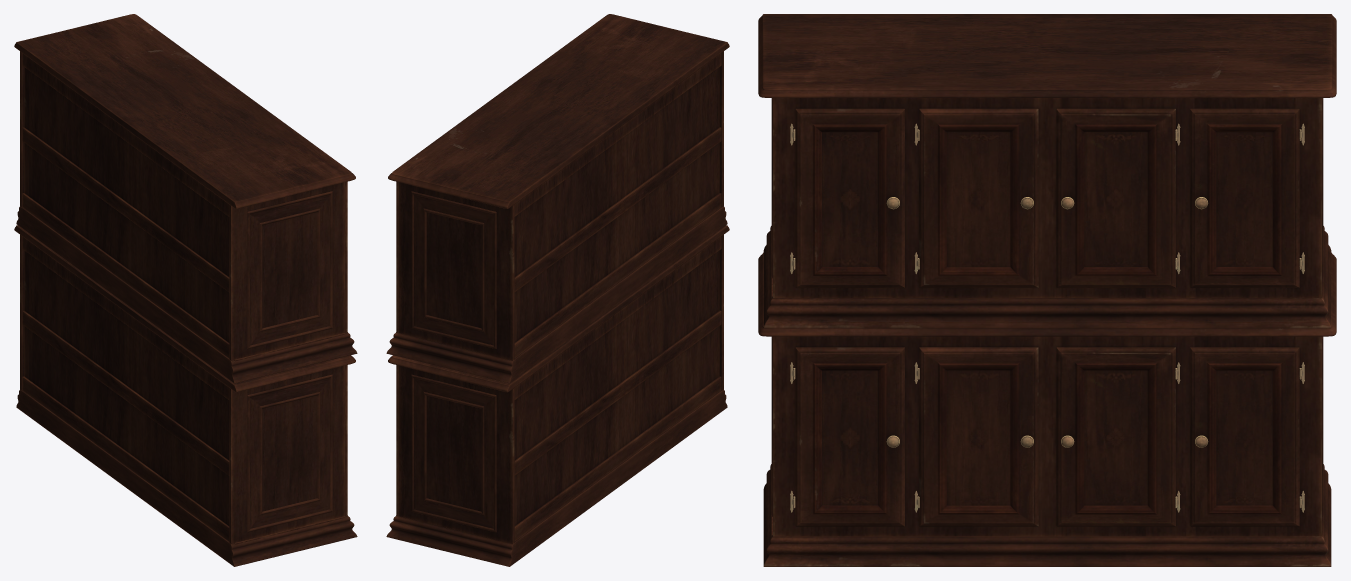
The model's file is BROKEN.gltf.
3 views of the same model, side by side, from view 1: azimuth 30°, elevation 25°; view 2: azimuth 150°, elevation 25°; view 3: azimuth 270°, elevation 25° (orthographic). The views are drawn at different scales.
Visible parts, largest first — view 1: body, body_mat_b_0.001, body_mat_a_0.001; view 2: body, body_mat_b_0.001, body_mat_a_0.001; view 3: body_mat_a_0.001, body, body_mat_b_0.001, door_6, door_7, door_6_mat_a_0.001, door_7_mat_a_0.001, door_2, door_5, door_2_mat_a_0.001, door_5_mat_a_0.001.
Part boxes in pixels (box(x1,y1,x2,y2)): body: box(14, 225, 357, 566); body_mat_b_0.001: box(20, 51, 347, 361); body_mat_a_0.001: box(14, 14, 357, 383); body: box(386, 225, 729, 566); body_mat_b_0.001: box(396, 51, 723, 360); body_mat_a_0.001: box(386, 14, 729, 383); body_mat_a_0.001: box(758, 14, 1336, 328); body: box(758, 252, 1336, 566); body_mat_b_0.001: box(771, 98, 1321, 297); door_6: box(917, 347, 1038, 526); door_7: box(1056, 347, 1177, 526); door_6_mat_a_0.001: box(917, 108, 1038, 287); door_7_mat_a_0.001: box(1056, 108, 1177, 287); door_2: box(1190, 347, 1301, 526); door_5: box(793, 347, 904, 526); door_2_mat_a_0.001: box(1190, 108, 1301, 287); door_5_mat_a_0.001: box(793, 108, 904, 287).
Size of the model in its own units: 1.18 by 3.24 by 3.58.
Materials: 4 (4 with a texture image).
